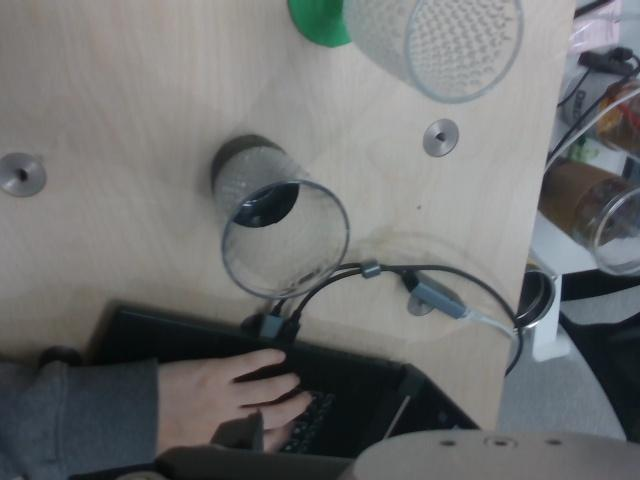black_cup: (211, 136, 301, 230)
green_cup: (287, 0, 356, 49)
